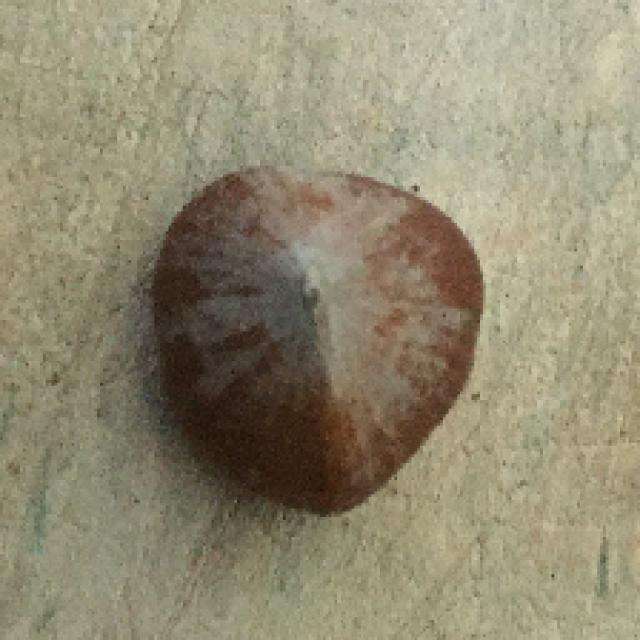QualityHazelnut: (147, 159, 486, 517)
